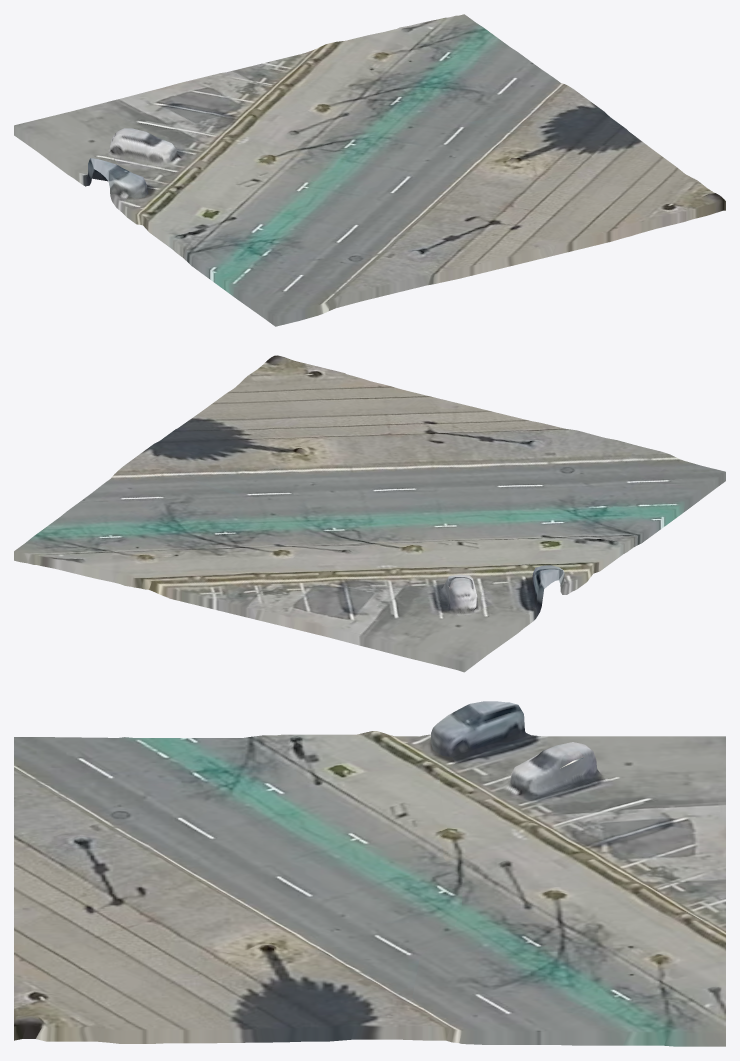
The model's file is z20-167772-405198-h0-yup-uvflip-v3-world.glb.
3 renders of one model, top to bottom at view 1: azimuth 30°, elevation 25°; view 2: azimuth 150°, elevation 25°; view 3: azimuth 270°, elevation 25°, orthographic. The views are drawn at different scales.
Bounding box in the file's own units: 30.16 × 2.32 × 30.32.
1 material, 1 textured.
